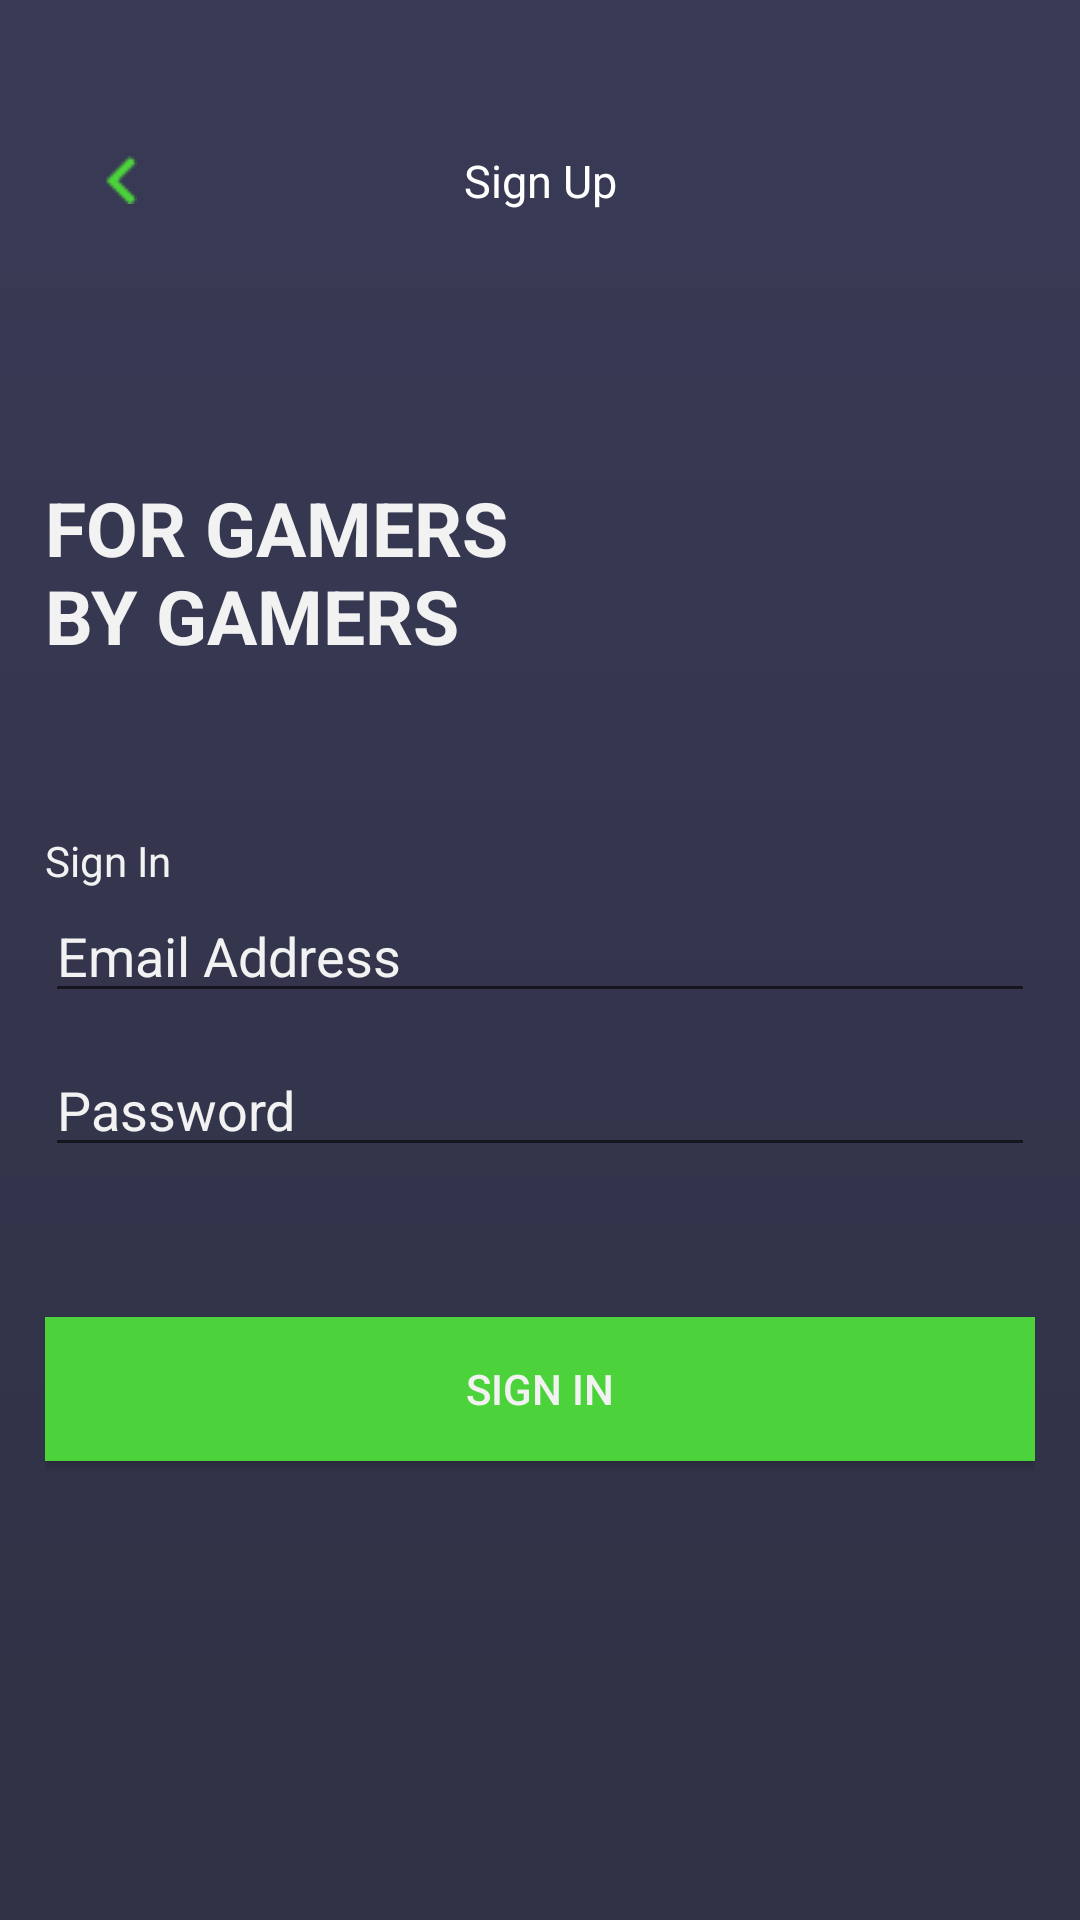

Where icons sit on this 1080x1920 app screen, as BBox(x1, y1, x2, y2):
chevronleft: BBox(106, 156, 137, 204)
